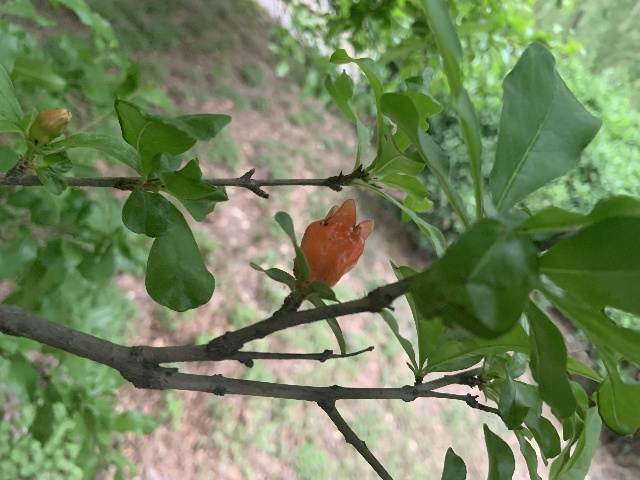bud: (28, 107, 71, 146)
flower: (293, 198, 374, 292)
